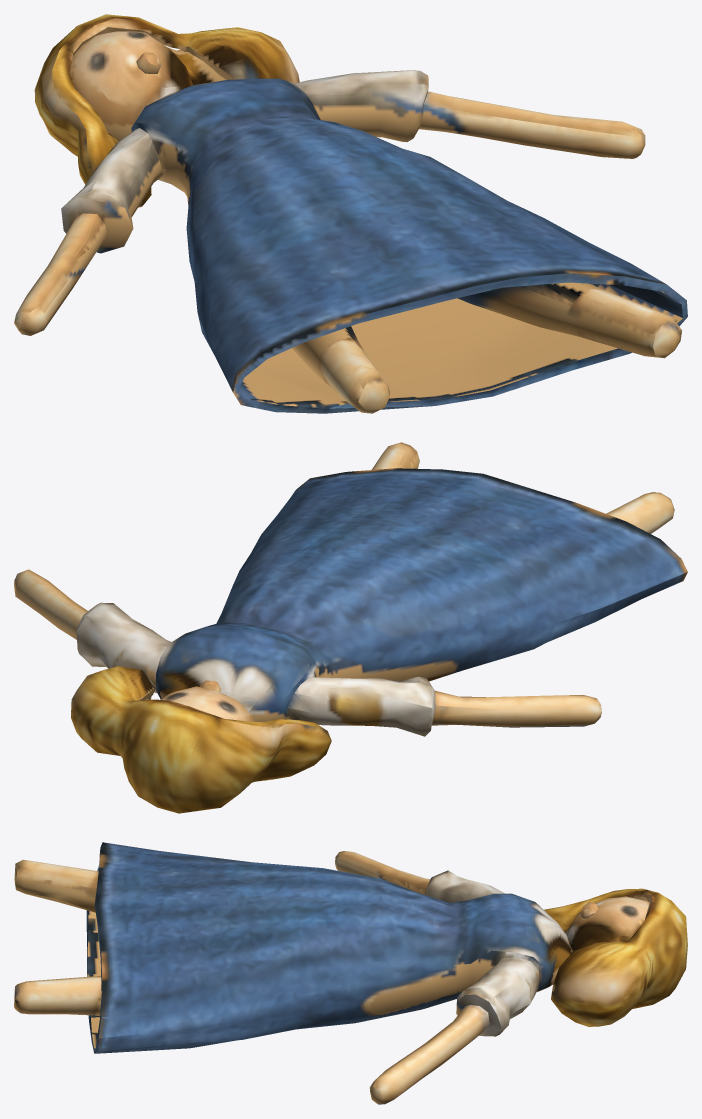
Rendered from item_mm9_10370.glb.
The picture shows the model from 3 angles, top to bottom: view 1: azimuth 30°, elevation 25°; view 2: azimuth 150°, elevation 25°; view 3: azimuth 270°, elevation 25°; orthographic projection. The views are drawn at different scales.
Parts seen in each view (by area): view 1: d10370; view 2: d10370; view 3: d10370.
Boxes of the visible parts, bbox=[...] form: d10370: bbox=[14, 14, 687, 413]; d10370: bbox=[14, 442, 687, 813]; d10370: bbox=[14, 842, 687, 1104].
Size of the model in its own units: 0.8643 by 0.1838 by 1.
1 material, 1 textured.
